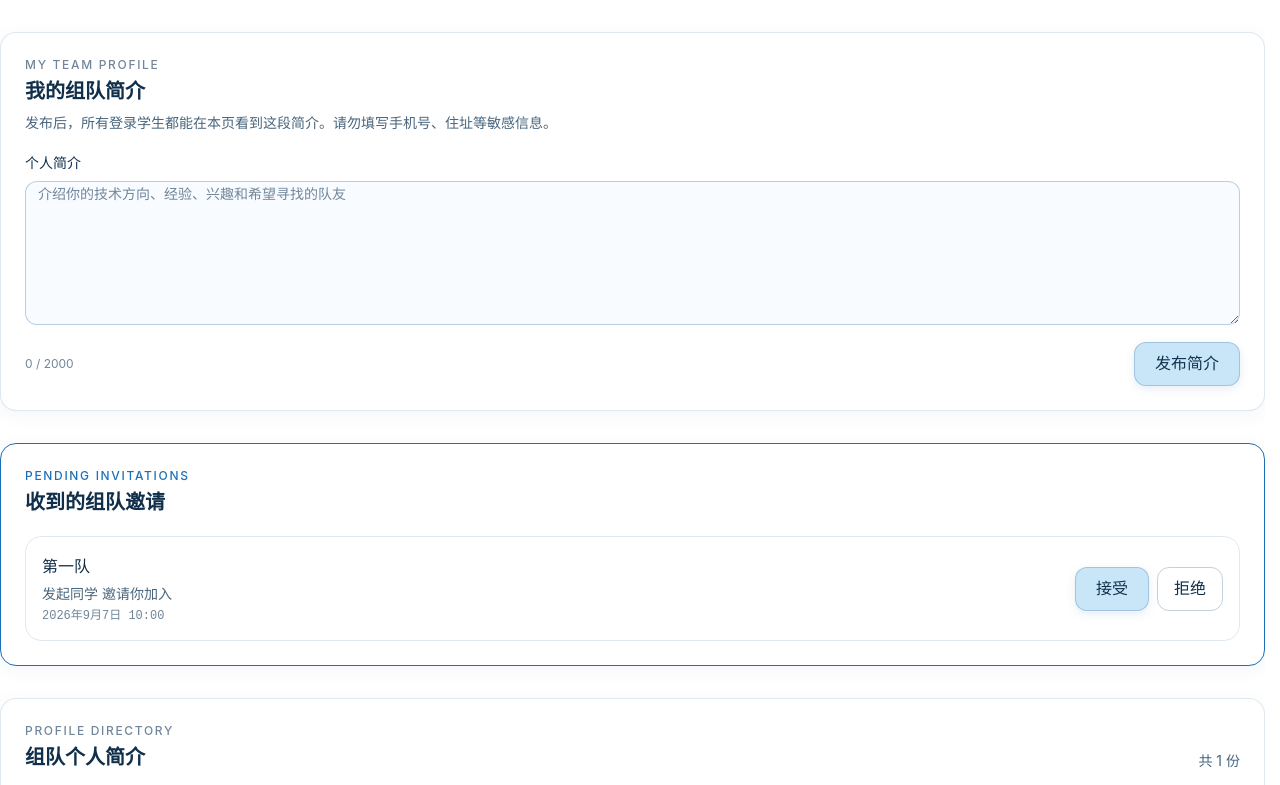
team profile invitations › declines an invitation without joining
The width and height of the screenshot is (1280, 785).
Click the button "拒绝": (1190, 589) [1157,567,1223,611]
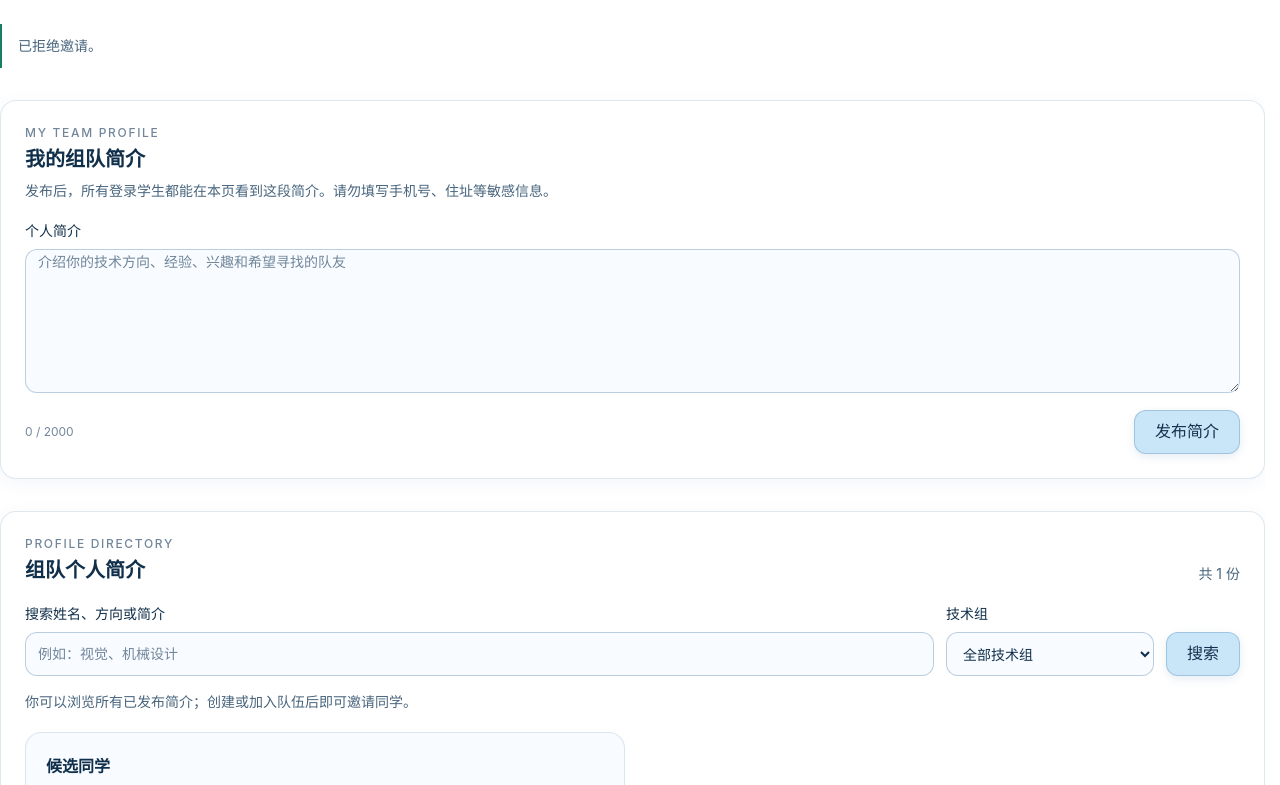
Check: the text "已拒绝邀请。" is shown, box [0,24,1265,68]
Check: the heading "第一队" is gone
